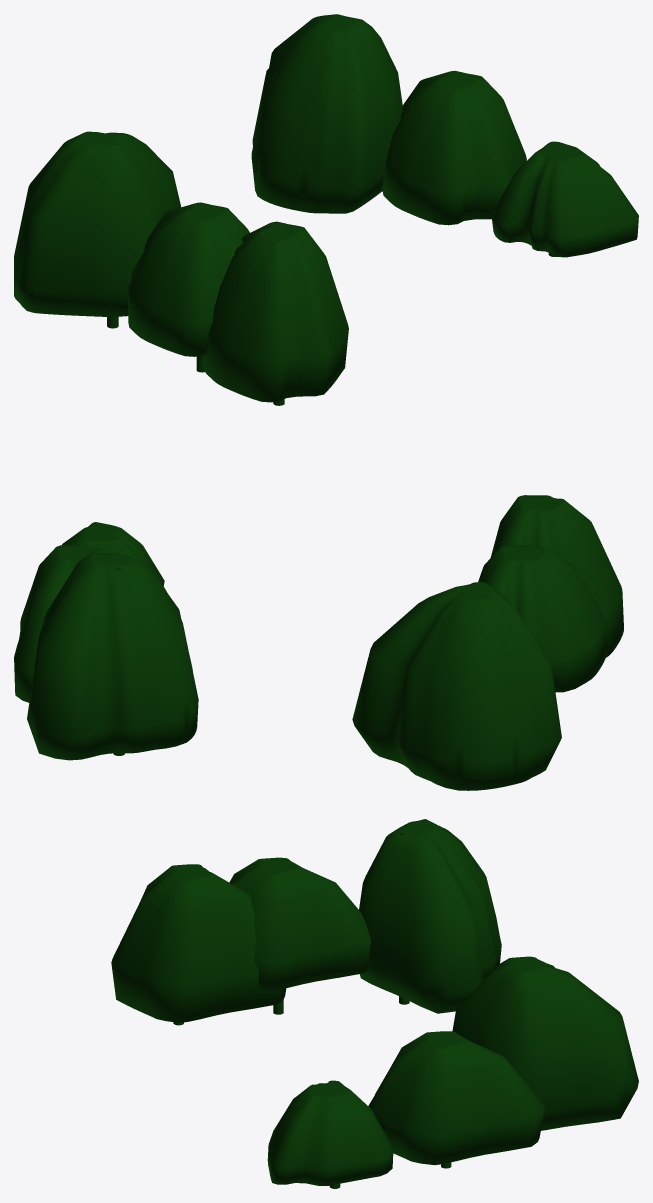
The model's file is Trees_Johannes_Rau_Platz_work_in_progr.FBX.
3 renders of one model, top to bottom at view 1: azimuth 30°, elevation 25°; view 2: azimuth 150°, elevation 25°; view 3: azimuth 270°, elevation 25°, orthographic. The views are drawn at different scales.
Visible parts, largest first — view 1: Tree_Foliage_D_21m, Tree_Foliage_D_21m001, Tree_Foliage_E_16m002, Tree_Foliage_E_16m, Tree_Foliage_E_18, Tree_Foliage_F_12 m; view 2: Tree_Foliage_D_21m001, Tree_Foliage_D_21m, Tree_Foliage_E_18, Tree_Foliage_E_16m002, Tree_Foliage_E_16m, Tree_Foliage_F_12 m; view 3: Tree_Foliage_D_21m001, Tree_Foliage_D_21m, Tree_Foliage_E_16m002, Tree_Foliage_E_16m, Tree_Foliage_E_18, Tree_Foliage_F_12 m.
Boxes of the visible parts, bbox=[...] form: Tree_Foliage_D_21m: bbox=[251, 14, 403, 213]; Tree_Foliage_D_21m001: bbox=[14, 131, 180, 316]; Tree_Foliage_E_16m002: bbox=[204, 221, 348, 402]; Tree_Foliage_E_16m: bbox=[382, 70, 526, 225]; Tree_Foliage_E_18: bbox=[128, 202, 249, 356]; Tree_Foliage_F_12 m: bbox=[491, 141, 638, 257]; Tree_Foliage_D_21m001: bbox=[352, 581, 561, 790]; Tree_Foliage_D_21m: bbox=[27, 553, 198, 760]; Tree_Foliage_E_18: bbox=[478, 545, 606, 692]; Tree_Foliage_E_16m002: bbox=[490, 495, 623, 657]; Tree_Foliage_E_16m: bbox=[14, 545, 107, 702]; Tree_Foliage_F_12 m: bbox=[62, 522, 164, 585]; Tree_Foliage_D_21m001: bbox=[359, 819, 501, 1013]; Tree_Foliage_D_21m: bbox=[452, 956, 638, 1130]; Tree_Foliage_E_16m002: bbox=[111, 864, 286, 1022]; Tree_Foliage_E_16m: bbox=[368, 1031, 545, 1165]; Tree_Foliage_E_18: bbox=[229, 857, 371, 991]; Tree_Foliage_F_12 m: bbox=[267, 1080, 393, 1185].
Bounding box in the file's own units: 6625 × 2106 × 6971.
